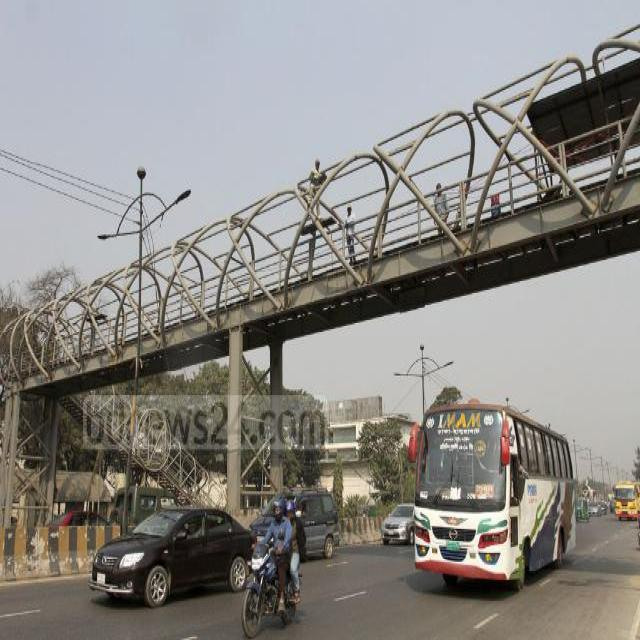bus: (412, 396, 574, 594), (610, 478, 638, 521)
car: (84, 504, 240, 612), (378, 497, 412, 553), (46, 507, 108, 522), (587, 497, 599, 517), (600, 494, 608, 511)
minivan: (252, 482, 341, 559)
motorbike: (242, 534, 304, 635)
suv: (110, 478, 178, 502)
three wheelers -CNG-: (574, 494, 588, 520)
